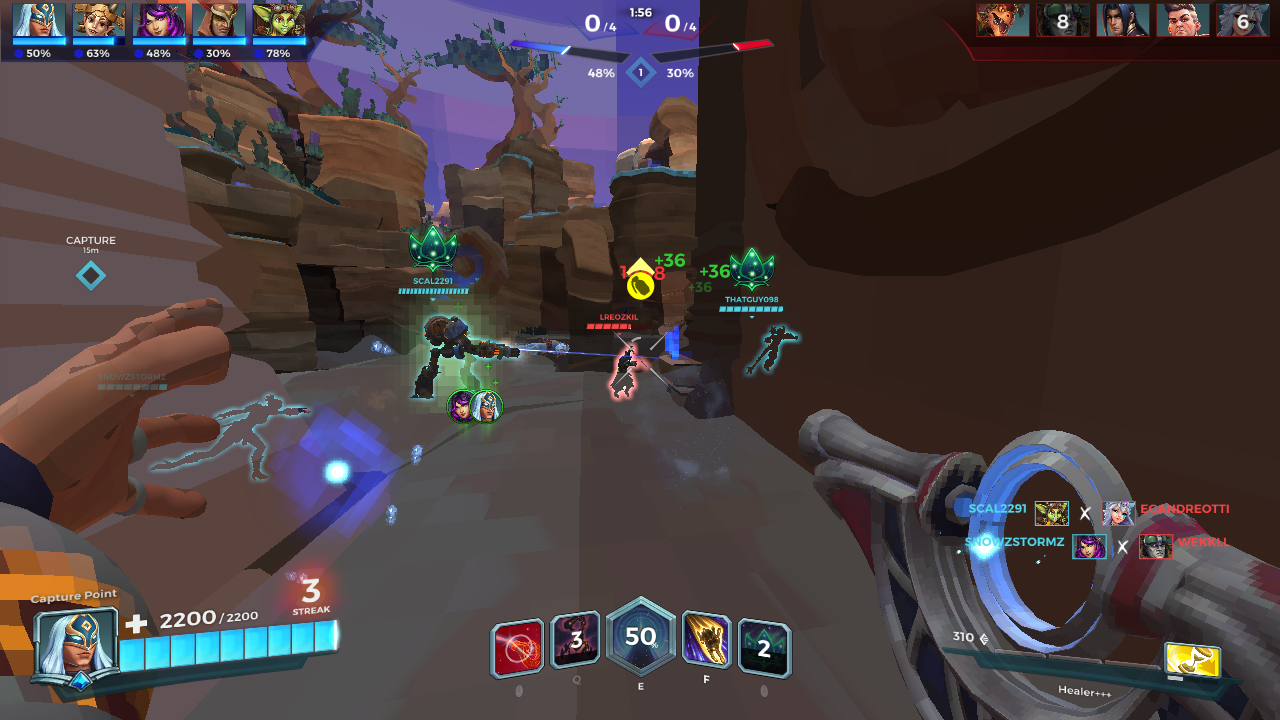model: (608, 342, 639, 399)
